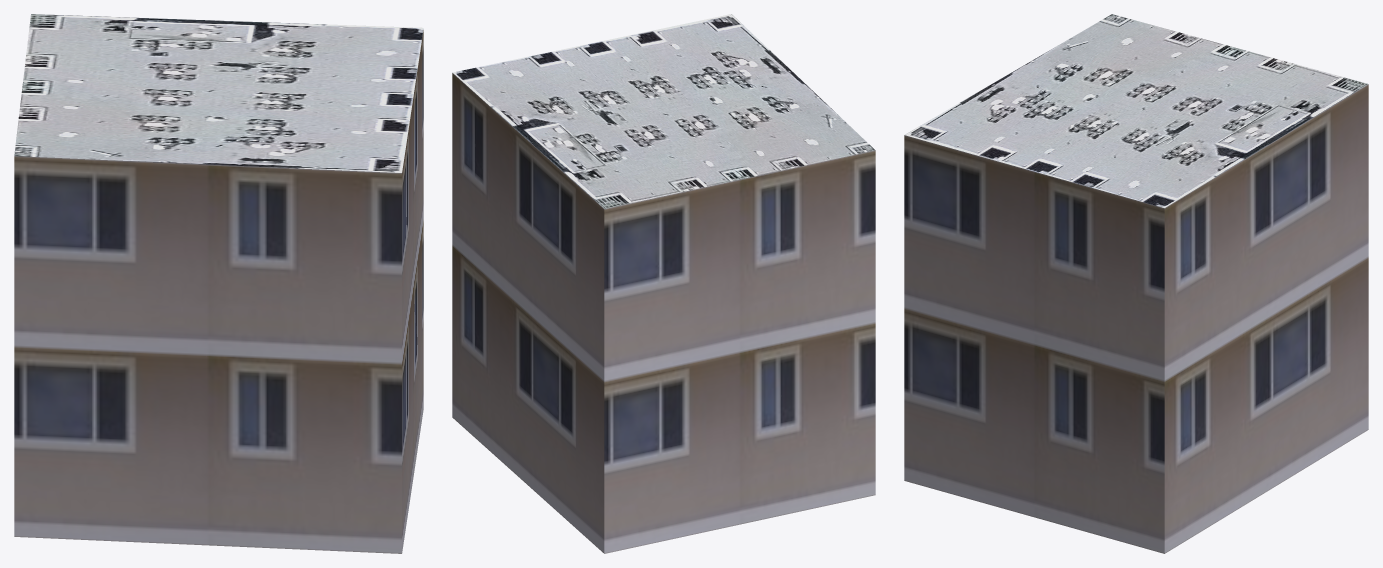
File: ResTex__5248.fbx
3 views of the same model, side by side, from view 1: azimuth 30°, elevation 25°; view 2: azimuth 150°, elevation 25°; view 3: azimuth 270°, elevation 25° (orthographic). The views are drawn at different scales.
Parts seen in each view (by area): view 1: CityEngineMaterial_21_m, CityEngineMaterial_m; view 2: CityEngineMaterial_21_m, CityEngineMaterial_m; view 3: CityEngineMaterial_21_m, CityEngineMaterial_m.
Part boxes in pixels (x1,y1,x2,y2): CityEngineMaterial_21_m: [14, 30, 423, 553]; CityEngineMaterial_m: [14, 14, 423, 172]; CityEngineMaterial_21_m: [452, 73, 875, 553]; CityEngineMaterial_m: [452, 14, 875, 208]; CityEngineMaterial_21_m: [904, 84, 1368, 553]; CityEngineMaterial_m: [905, 14, 1368, 207].
Size of the model in its own units: 7.23 by 6 by 7.31.
Materials: 2 (2 with a texture image).
